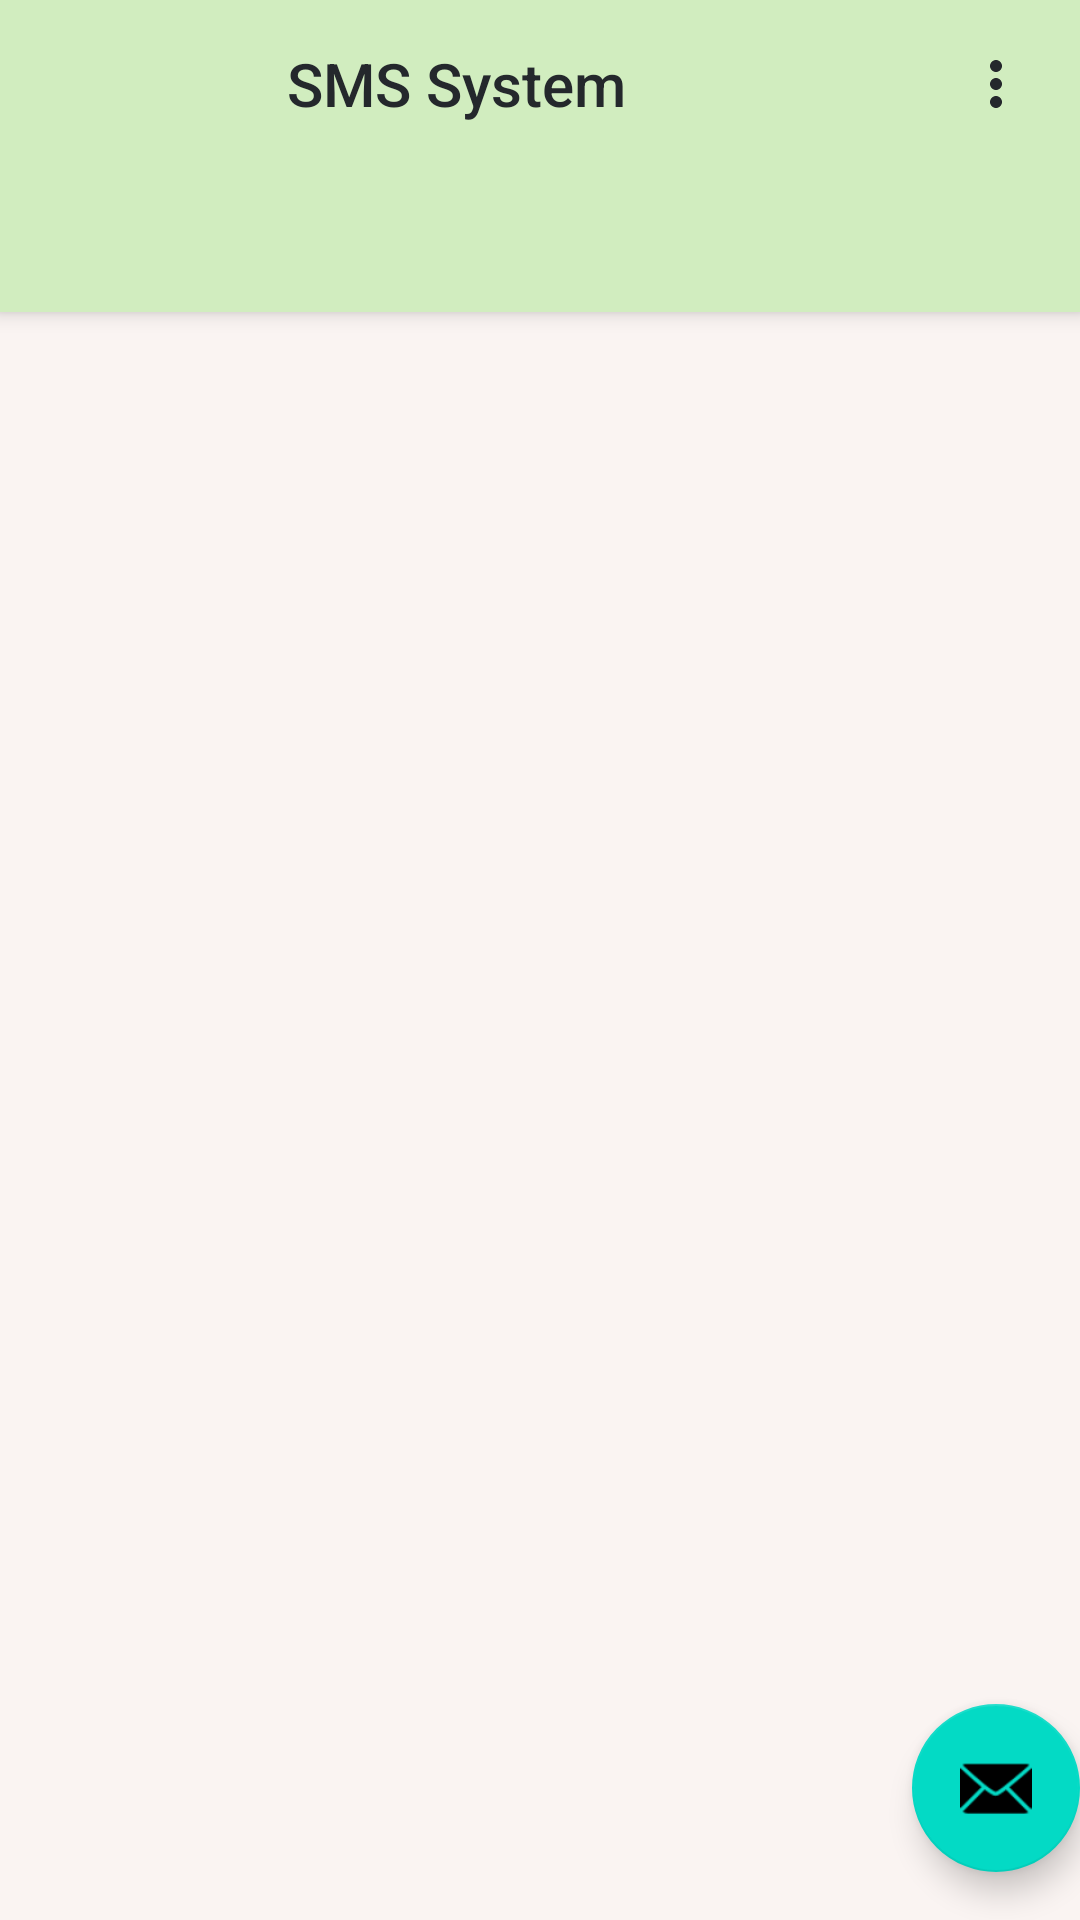

Icon click points for this 1080 x 1920 phone screenshot, format [x,y]:
Options: [996,84]
